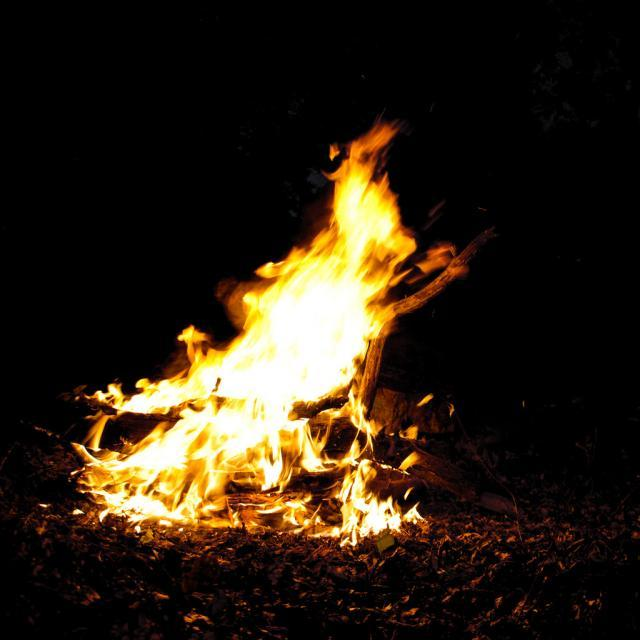Fire: (266, 277, 354, 389), (341, 176, 397, 258), (175, 419, 264, 459)
